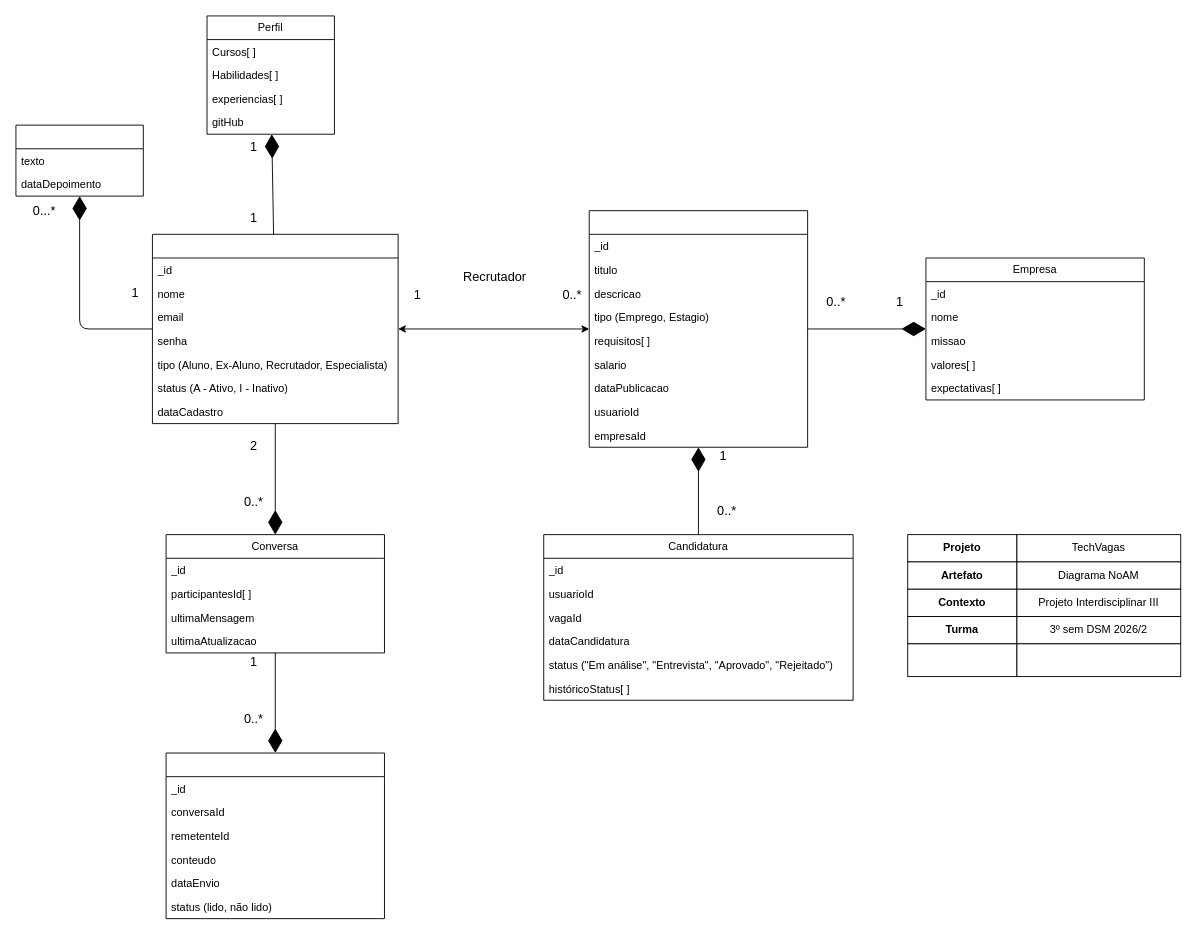
This 1197x937 diagram has some shape labels left out. The box of each missing label's shape, as (x1, y1, x2, y2) in pixels:
- Gabriel Moreti Oliveira - Thiago Henrique Vieira: (1016, 643, 1181, 677)
Altores: (907, 643, 1017, 677)
Depoimentos: (15, 124, 143, 196)
Mensagem: (165, 752, 384, 919)
Usuario: (152, 233, 398, 424)
Vaga: (588, 210, 808, 447)
